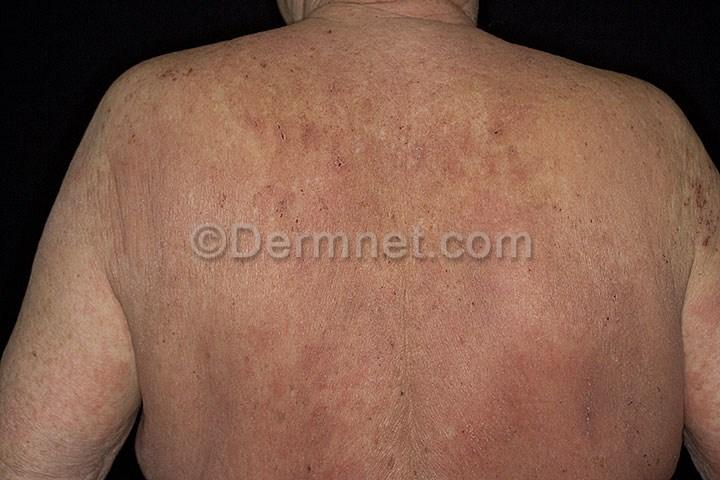Eczema: (348, 263, 659, 479), (129, 268, 339, 473), (387, 59, 611, 229), (137, 61, 384, 215), (2, 294, 112, 461), (605, 99, 717, 261), (64, 172, 137, 273)
